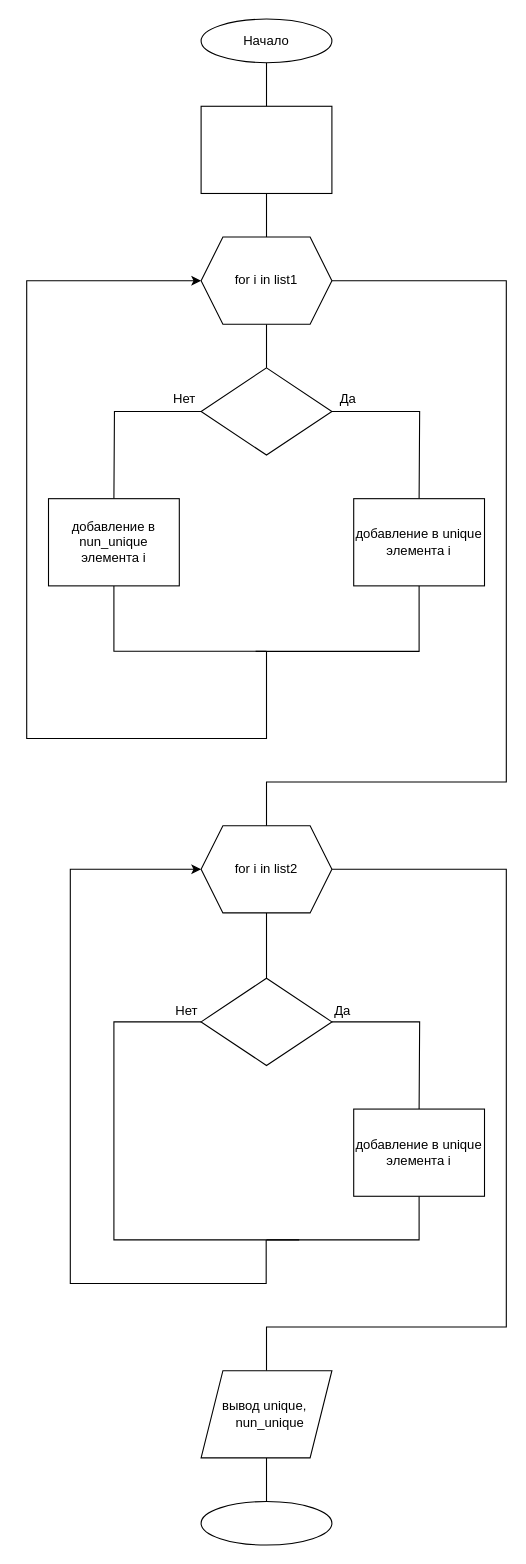
The diagram is 526 pixels wide and 1564 high, and some of its shapes have lost their labels. Here are the shapes that lost their labels. From the top down, the centre of each, then its label:
point 266,149: списки list1,list2 список list3 = list1 + list2, пустые списки unique,non_unique
point 266,411: i not in list2
point 266,1021: i not in list1
point 266,1522: Конец
